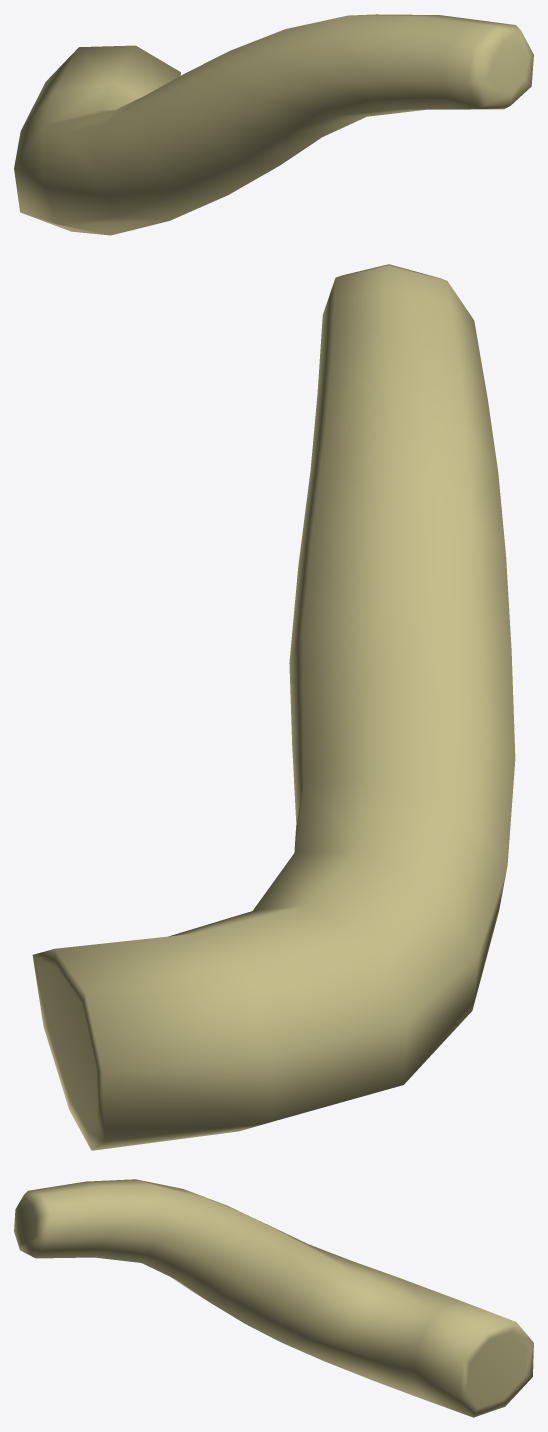
File: Nerves_R3.FBX
3 views of the same model, one above another, from view 1: azimuth 30°, elevation 25°; view 2: azimuth 150°, elevation 25°; view 3: azimuth 270°, elevation 25° (orthographic). The views are drawn at different scales.
Parts seen in each view (by area): view 1: Nerves_R3; view 2: Nerves_R3; view 3: Nerves_R3.
Boxes of the visible parts, x1,y1,x2,y2 form: Nerves_R3: (14,14,533,235); Nerves_R3: (32,264,515,1150); Nerves_R3: (14,1179,533,1417).
Size of the model in its own units: 0.004 by 0.00424 by 0.00789.
